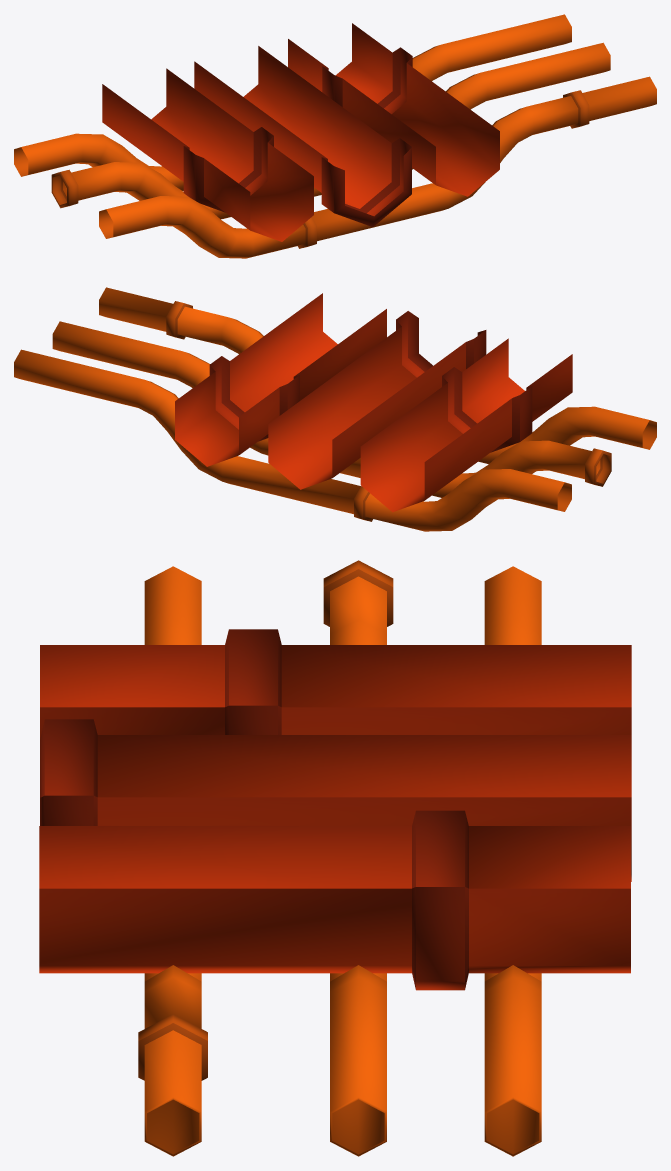
The model's file is TubulacoesOtimizadas.fbx.
3 renders of one model, top to bottom at view 1: azimuth 30°, elevation 25°; view 2: azimuth 150°, elevation 25°; view 3: azimuth 270°, elevation 25°, orthographic. The views are drawn at different scales.
Parts seen in each view (by area): view 1: TubulacoesOtimizadas; view 2: TubulacoesOtimizadas; view 3: TubulacoesOtimizadas.
Boxes of the visible parts, bbox=[...] form: TubulacoesOtimizadas: bbox=[14, 14, 656, 258]; TubulacoesOtimizadas: bbox=[14, 287, 656, 531]; TubulacoesOtimizadas: bbox=[39, 560, 631, 1156].
Bounding box in the file's own units: 257 × 47.82 × 121.
